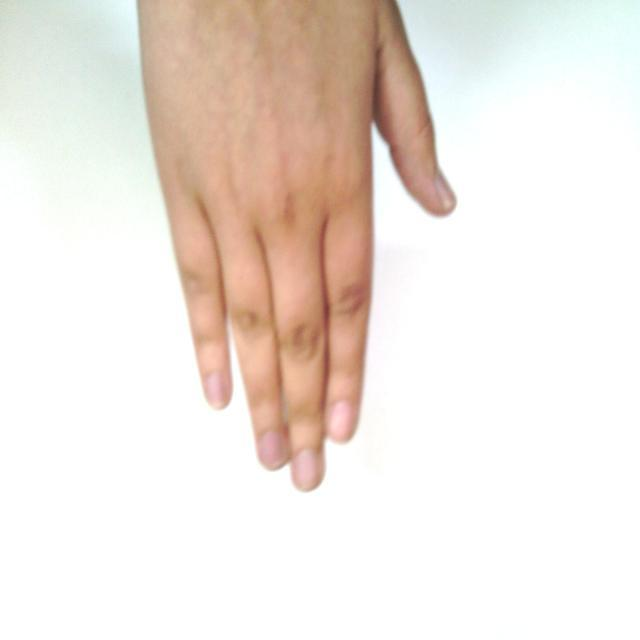Fingernail: (293, 451, 319, 491), (259, 432, 286, 468), (330, 403, 352, 442), (205, 373, 227, 409), (436, 172, 455, 206)
